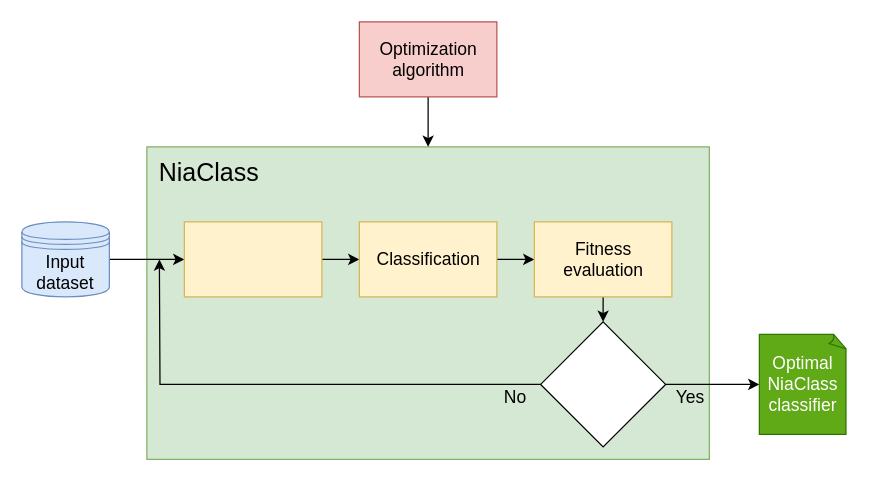
The diagram is 869 pixels wide and 481 high, and some of its shapes have lost their labels. The shapes that lost their labels are listed below. From the top down, each one's centre as x and y in pixels, then its label:
At (252,259): "Classification rules building".
At (602,384): "Termination condition met?".
